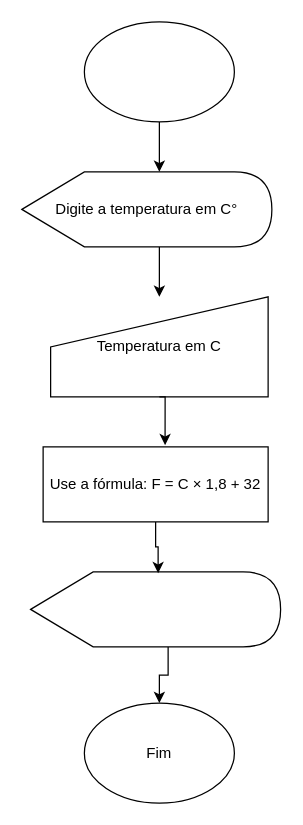
Some shapes in this 303 by 825 pixel diagram are drawn without their labels. The shapes that lost their labels are listed below. From the top down, each one's box as (x1, y1, x2, y2) in pixels, then its label:
(83, 21, 234, 122): Inicio
(29, 571, 281, 647): Mostre o Resultado
